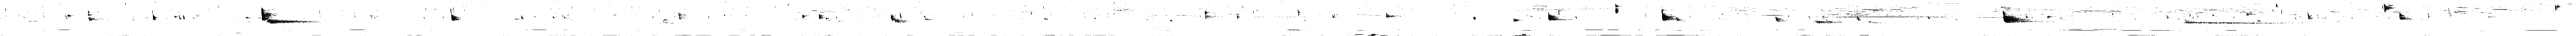meteor: (261, 7, 315, 23), (2185, 18, 2265, 25), (2003, 10, 2037, 23), (1661, 10, 1681, 21), (890, 13, 907, 23), (1548, 13, 1567, 21), (89, 11, 103, 21), (1204, 11, 1217, 20), (452, 11, 462, 21), (2399, 13, 2413, 20), (2384, 3, 2394, 13), (1814, 20, 1842, 23), (151, 10, 158, 21), (1774, 16, 1786, 23), (1387, 13, 1395, 18), (818, 15, 825, 20), (1513, 18, 1520, 23), (1615, 3, 1621, 8), (2308, 13, 2313, 20)
